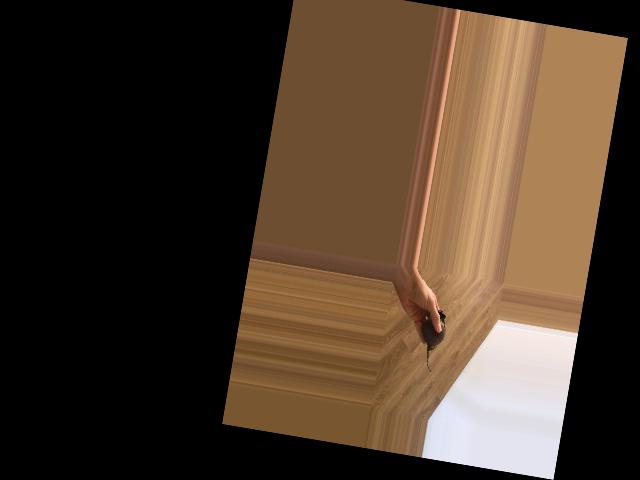beet: (416, 308, 448, 373)
